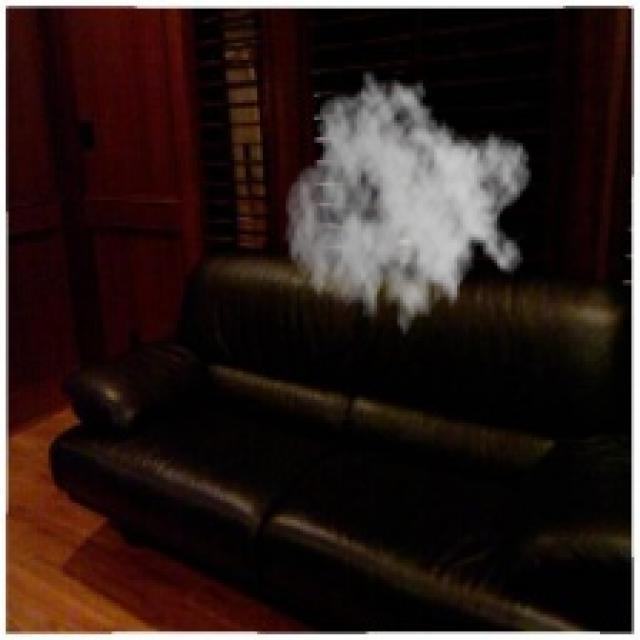Smoke: (282, 68, 534, 352)
